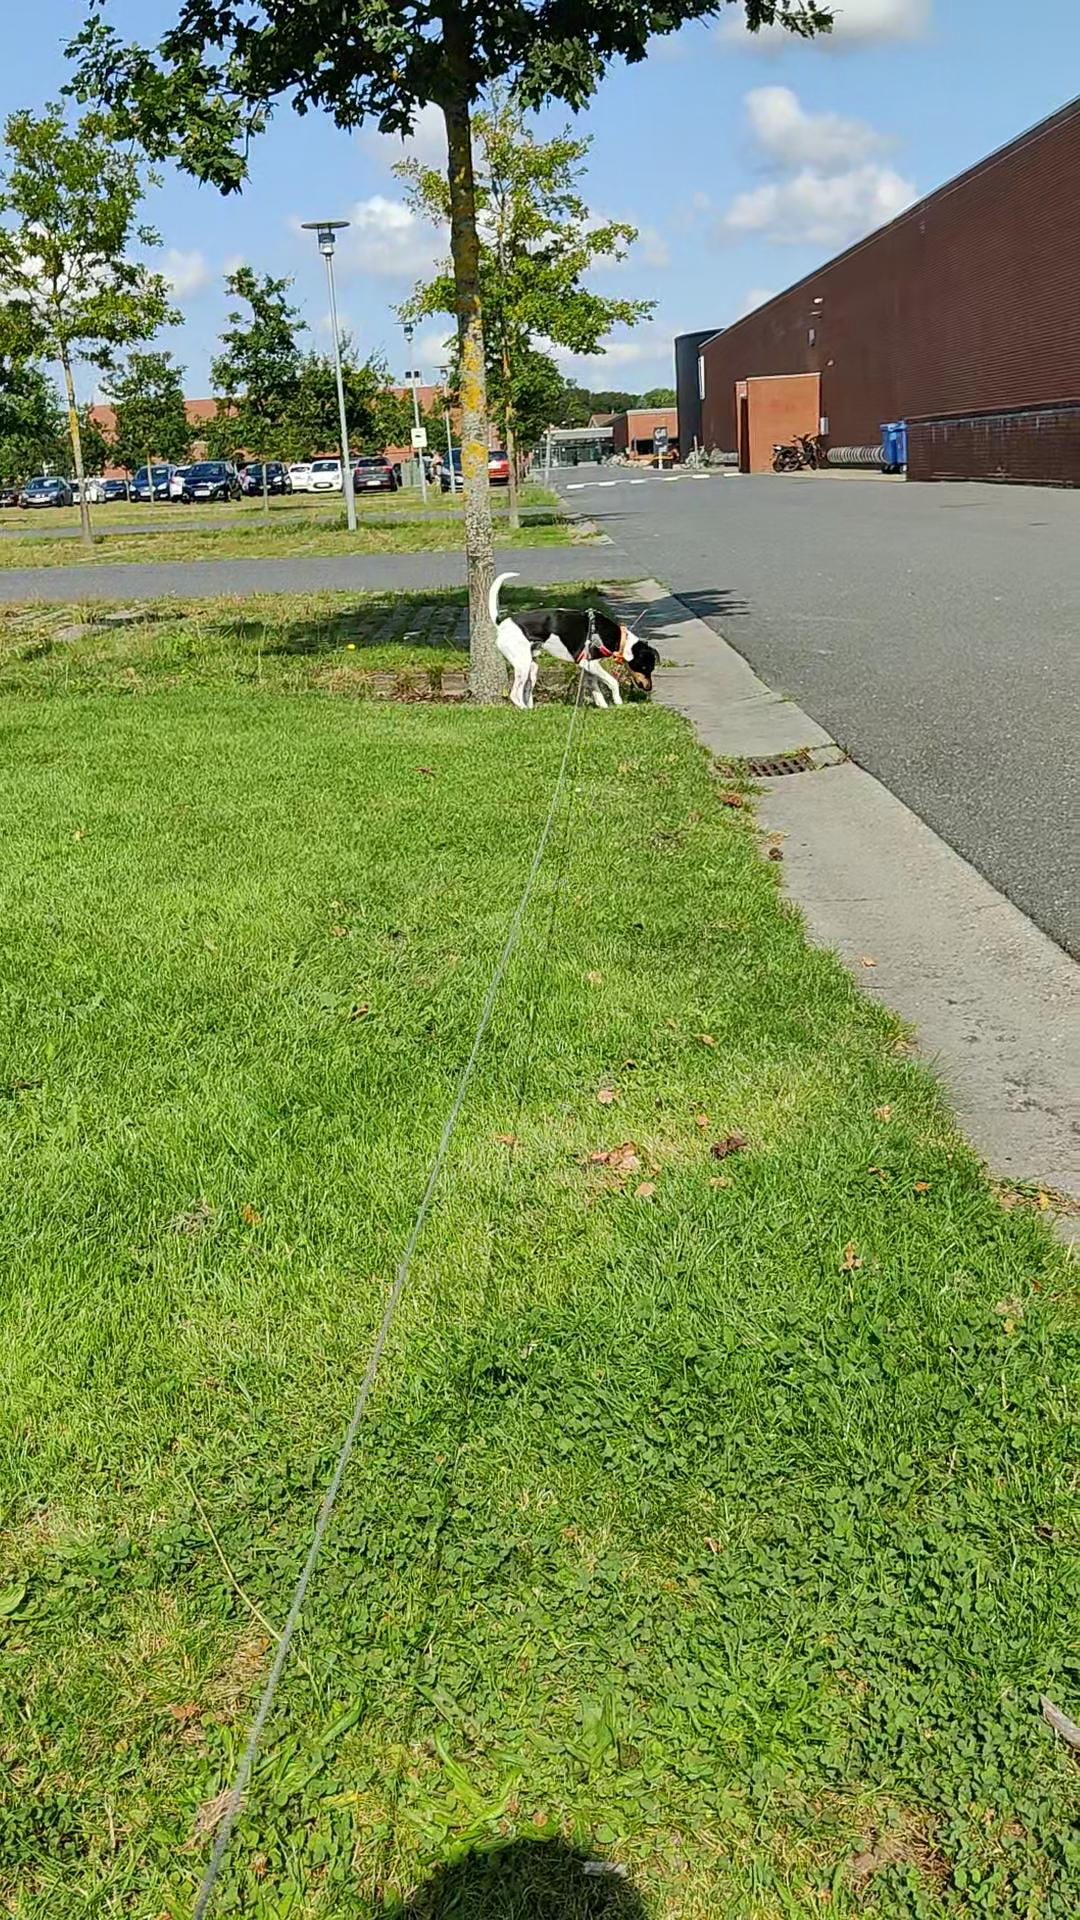Dog: (487, 556, 662, 708)
